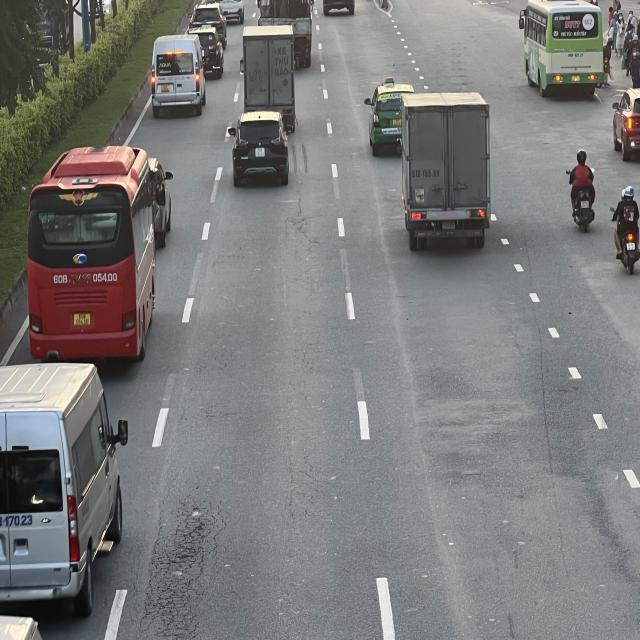car: (229, 109, 292, 183), (364, 78, 416, 154), (613, 89, 640, 158)
coach: (21, 147, 159, 367), (520, 2, 607, 96)
truck: (399, 91, 490, 244), (242, 27, 296, 126)
van: (0, 366, 125, 622), (153, 35, 210, 116)
